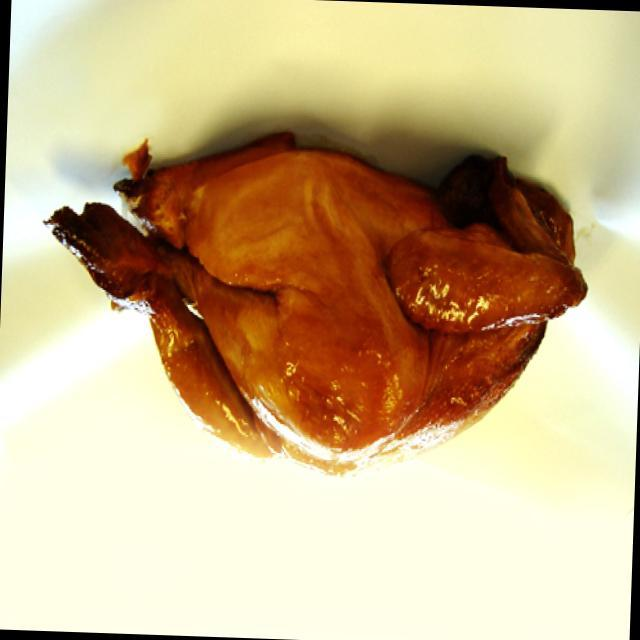Chicken: (38, 127, 600, 491)
